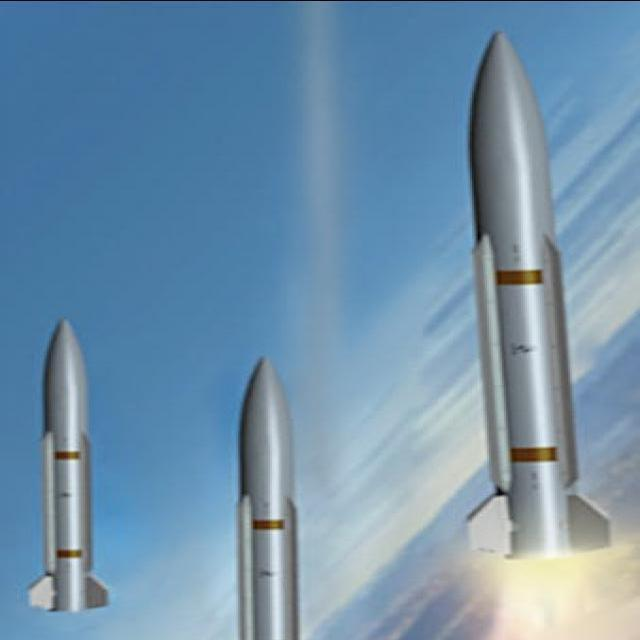missile: (462, 30, 614, 560), (29, 315, 111, 611), (230, 350, 305, 640)
